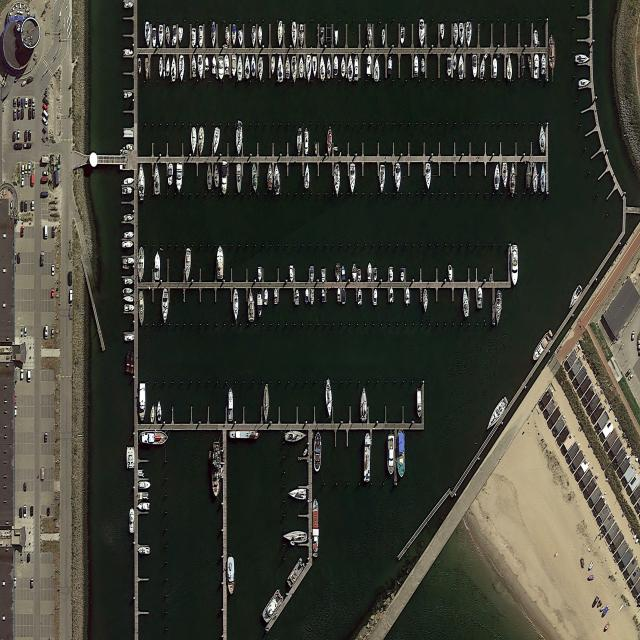ship: (486, 394, 508, 432), (262, 588, 284, 624), (532, 327, 554, 362), (212, 440, 222, 498), (288, 556, 306, 588), (396, 426, 406, 479), (138, 430, 168, 446), (312, 498, 320, 552), (386, 433, 396, 475), (364, 432, 372, 482), (138, 381, 148, 421), (548, 34, 556, 84), (569, 284, 583, 310), (314, 430, 322, 472), (228, 430, 260, 440), (227, 556, 235, 594), (138, 163, 146, 201), (360, 385, 368, 422), (511, 244, 518, 286), (283, 530, 307, 542), (494, 290, 502, 326), (247, 288, 255, 322), (216, 246, 224, 280), (184, 248, 192, 282), (161, 289, 169, 323), (284, 430, 306, 442), (462, 288, 470, 320), (509, 162, 516, 198), (138, 246, 145, 282), (326, 378, 332, 418), (264, 383, 270, 423), (220, 166, 228, 196), (236, 120, 243, 154), (538, 124, 546, 153), (288, 488, 306, 500), (233, 289, 239, 325), (138, 290, 144, 326), (126, 446, 135, 470), (154, 250, 161, 280), (228, 387, 234, 421), (334, 163, 340, 196), (213, 126, 220, 154), (170, 54, 177, 82), (154, 163, 160, 195), (574, 52, 590, 64), (274, 164, 280, 195), (176, 162, 182, 193), (422, 287, 429, 313), (395, 163, 401, 193), (380, 164, 386, 194), (350, 164, 356, 194), (236, 164, 242, 194), (198, 126, 204, 156), (532, 163, 538, 193), (540, 162, 546, 192), (416, 387, 422, 417), (320, 53, 326, 82), (502, 162, 508, 190), (425, 162, 431, 190), (304, 128, 310, 156), (296, 127, 302, 155), (268, 162, 274, 190), (252, 164, 258, 192), (213, 164, 220, 188), (191, 126, 197, 154), (179, 54, 185, 82), (278, 54, 284, 82), (292, 56, 298, 84), (306, 54, 312, 82), (374, 54, 380, 82), (419, 19, 425, 47), (458, 52, 464, 80), (256, 291, 262, 318), (206, 163, 212, 190), (136, 502, 152, 512), (304, 162, 310, 188), (129, 508, 135, 534), (144, 20, 150, 46), (198, 54, 204, 80), (237, 54, 243, 80), (258, 56, 264, 82), (277, 20, 283, 46), (284, 54, 290, 80), (291, 21, 297, 47), (466, 21, 472, 47), (525, 162, 531, 188), (533, 54, 539, 80), (223, 54, 230, 76), (327, 126, 332, 156), (507, 53, 512, 83), (124, 350, 130, 374), (218, 56, 224, 80), (232, 54, 238, 78), (244, 55, 250, 79), (312, 54, 318, 78), (326, 55, 332, 79), (452, 22, 458, 46), (472, 54, 478, 78), (477, 286, 483, 310), (138, 480, 152, 490), (168, 163, 174, 186), (156, 399, 162, 422), (494, 163, 499, 190), (348, 55, 353, 82), (158, 25, 164, 47), (198, 25, 204, 47), (298, 24, 304, 46), (479, 58, 485, 80), (492, 58, 498, 80), (520, 54, 526, 76), (367, 22, 372, 48), (211, 22, 216, 48), (578, 78, 591, 88), (333, 55, 339, 76), (138, 491, 150, 501), (320, 26, 326, 46), (387, 56, 393, 76), (446, 56, 452, 76), (459, 22, 464, 46), (388, 284, 394, 304), (404, 286, 410, 306), (137, 546, 151, 554), (122, 257, 136, 265), (354, 54, 358, 82), (299, 56, 304, 78), (341, 56, 346, 78), (367, 55, 372, 77), (541, 54, 546, 76), (191, 27, 196, 48), (400, 24, 405, 45), (130, 350, 134, 376), (238, 29, 244, 46), (367, 262, 372, 282), (335, 262, 340, 282), (533, 28, 538, 48), (122, 241, 134, 249), (145, 58, 149, 82), (252, 54, 256, 78), (352, 264, 357, 282), (373, 288, 378, 306), (124, 304, 135, 312), (122, 287, 133, 295), (159, 56, 163, 78), (232, 24, 236, 46), (414, 55, 418, 77), (440, 23, 445, 40), (122, 187, 134, 194), (358, 288, 362, 308), (295, 289, 300, 305), (150, 403, 154, 423), (124, 334, 134, 342), (124, 277, 134, 285), (124, 231, 134, 239), (124, 214, 134, 222), (124, 177, 134, 185), (123, 48, 133, 56), (152, 28, 156, 48), (166, 56, 170, 76), (172, 24, 176, 44), (192, 54, 196, 74), (226, 26, 230, 46), (252, 26, 256, 46), (258, 26, 262, 46), (212, 55, 216, 74), (373, 266, 378, 281), (178, 27, 183, 42), (448, 264, 452, 282), (310, 265, 314, 283), (310, 288, 314, 306), (290, 264, 294, 282), (264, 288, 268, 306), (166, 26, 170, 44), (271, 56, 275, 74), (382, 28, 386, 46), (334, 29, 338, 46), (389, 266, 393, 282), (342, 288, 346, 304), (342, 265, 346, 281), (337, 287, 341, 303), (304, 288, 308, 304), (274, 288, 278, 304), (124, 91, 132, 99), (138, 58, 142, 74), (205, 56, 209, 72), (453, 54, 457, 70), (528, 56, 532, 72), (322, 288, 326, 303), (321, 268, 325, 283), (314, 140, 318, 155), (258, 266, 262, 281), (124, 296, 134, 302), (124, 2, 134, 8), (421, 58, 425, 73), (400, 268, 404, 282), (358, 268, 362, 282), (122, 264, 130, 270), (126, 144, 134, 150), (312, 552, 318, 558), (304, 448, 308, 456), (484, 52, 488, 60), (333, 146, 338, 152), (290, 541, 294, 546), (532, 162, 535, 168), (172, 38, 174, 46), (224, 44, 228, 48)
